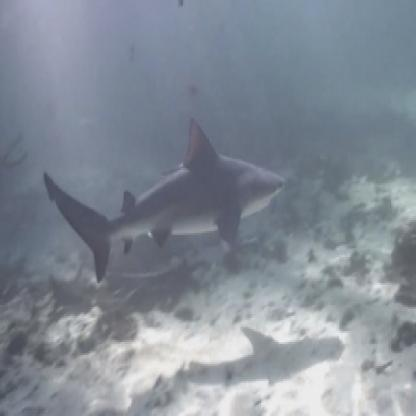Bio: (38, 116, 288, 288)
